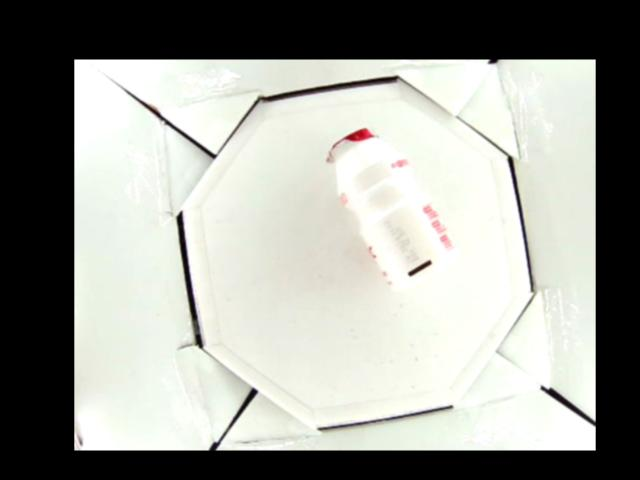Bottle: (325, 127, 457, 291)
